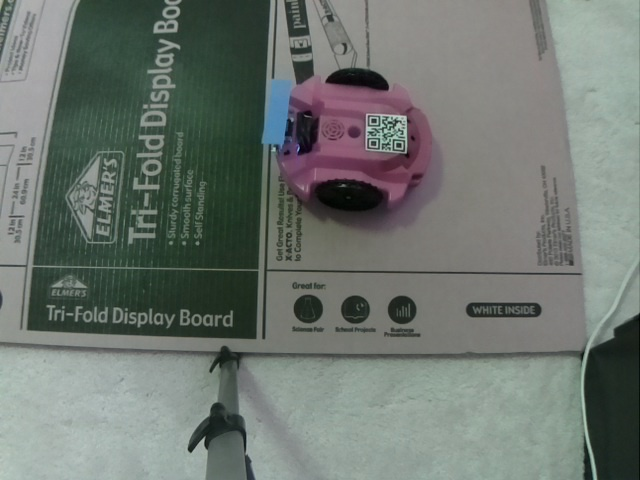chassis: (244, 57, 441, 216)
qr: (362, 111, 411, 155)
